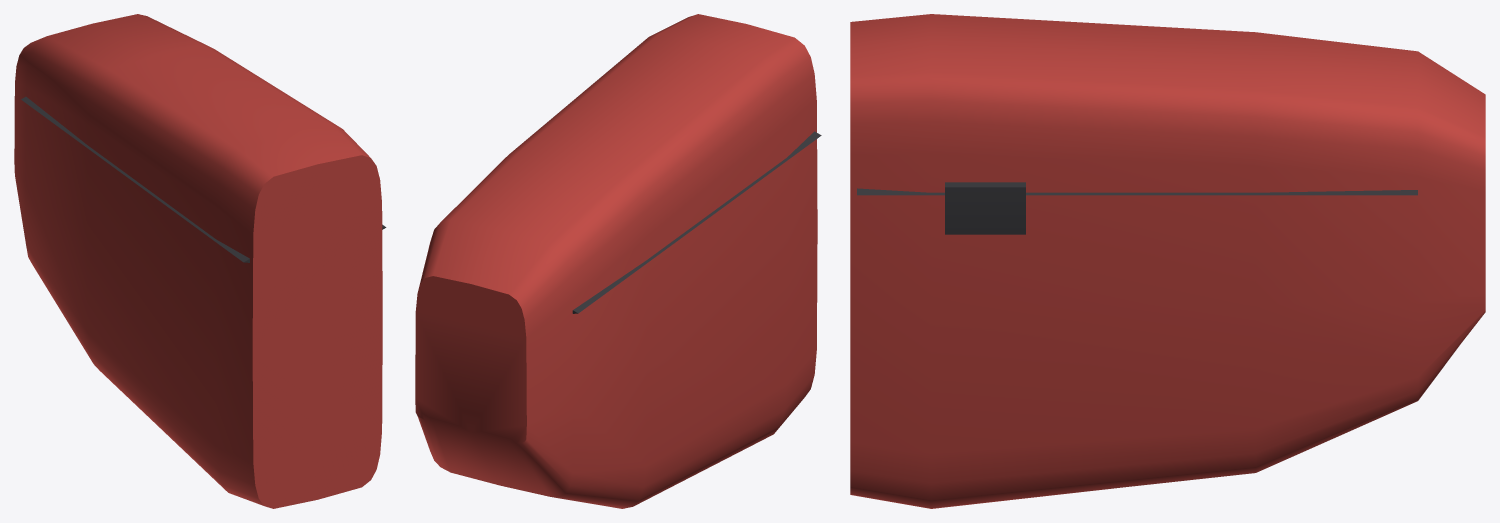
File: sport_case.glb
The picture shows the model from 3 angles, left to right: view 1: azimuth 30°, elevation 25°; view 2: azimuth 150°, elevation 25°; view 3: azimuth 270°, elevation 25°; orthographic projection. The views are drawn at different scales.
Parts seen in each view (by area): view 1: lod0; view 2: lod0; view 3: lod0.
Part boxes in pixels (bbox=[...]): lod0: bbox=[14, 14, 386, 508]; lod0: bbox=[415, 14, 821, 508]; lod0: bbox=[850, 14, 1485, 508].
Size of what is drawn, in the model's own units: 0.161 by 0.36 by 0.47.
